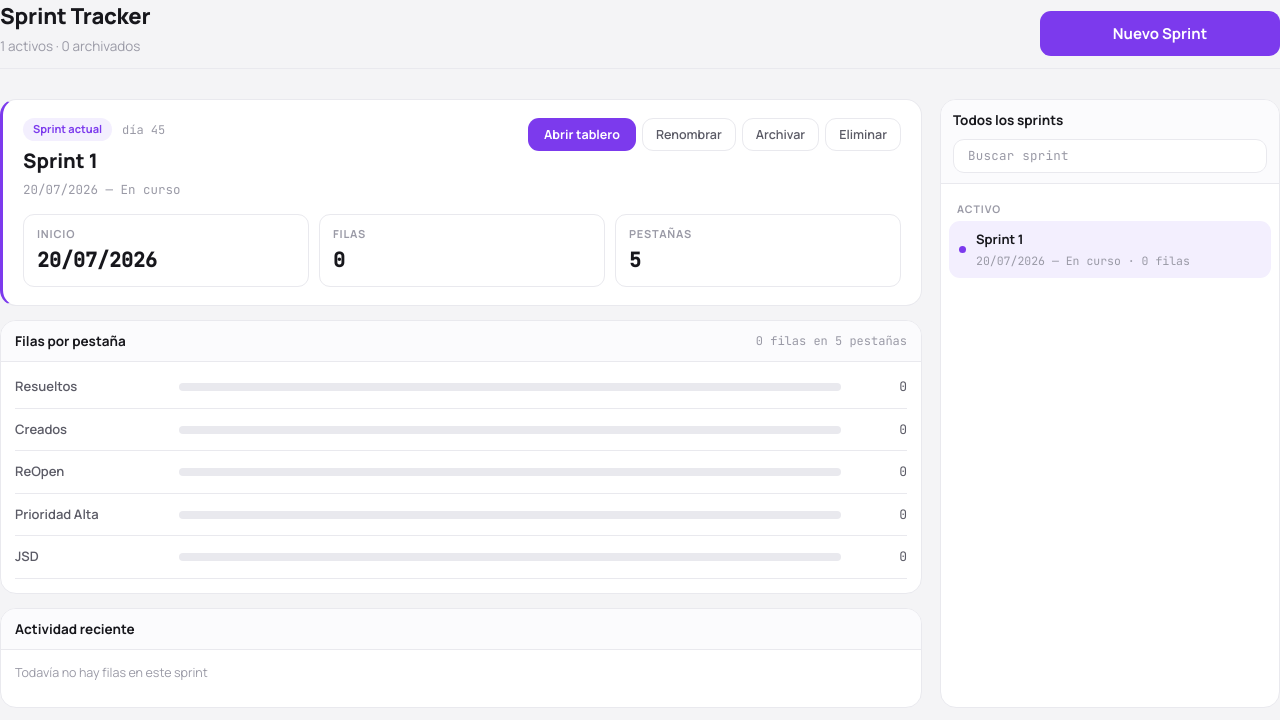
it: SprintList renaming › clicking Renombrar reveals an input pre-filled with the current name
Click the button "Renombrar" at {"x": 689, "y": 135}, box [642,118,736,151]
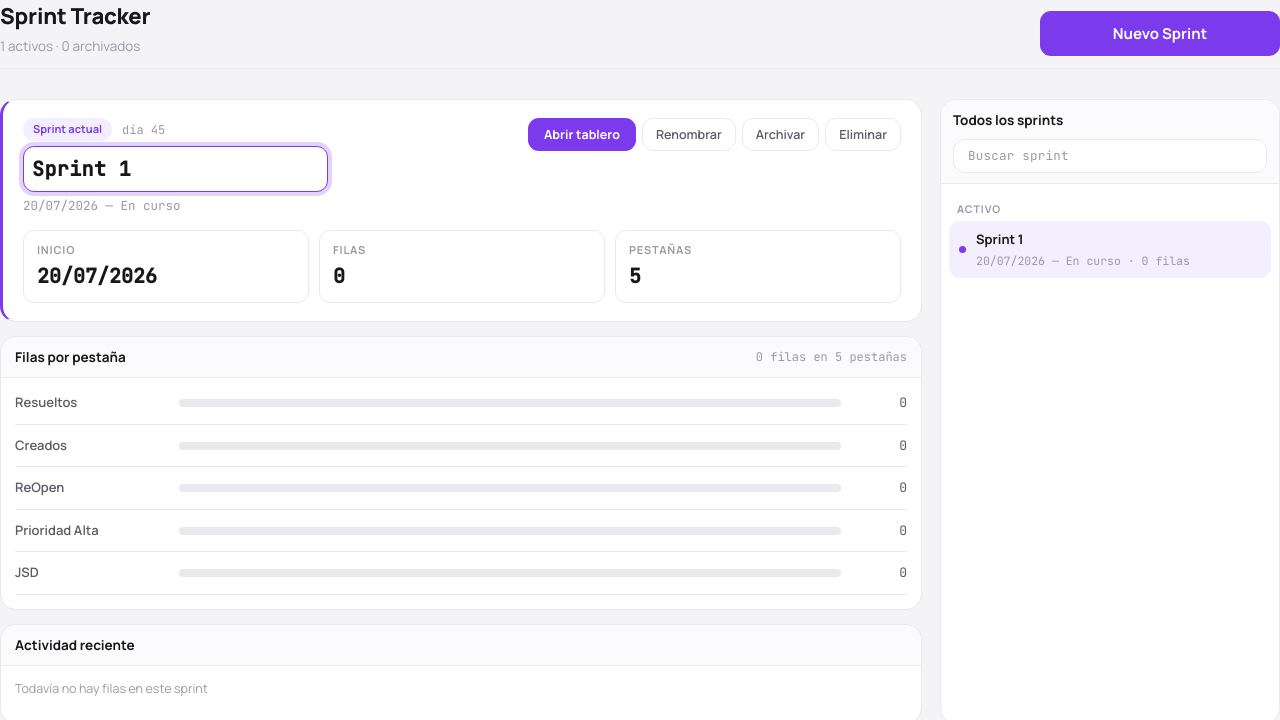
Check: the field showing "Sprint 1" is shown, box [23,146,328,192]
